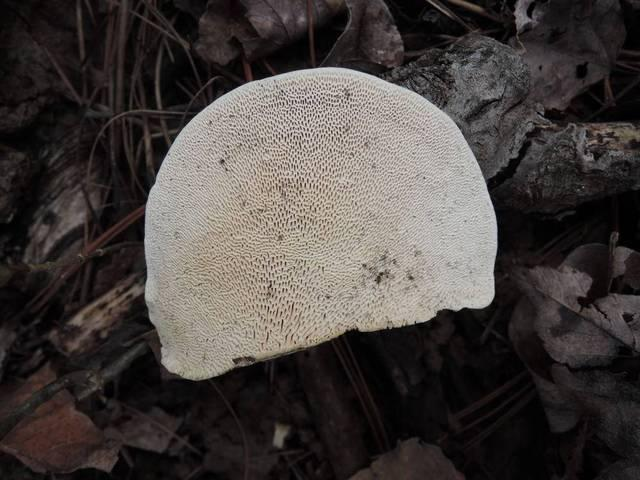poisonous_mushroom: (121, 60, 517, 372)
